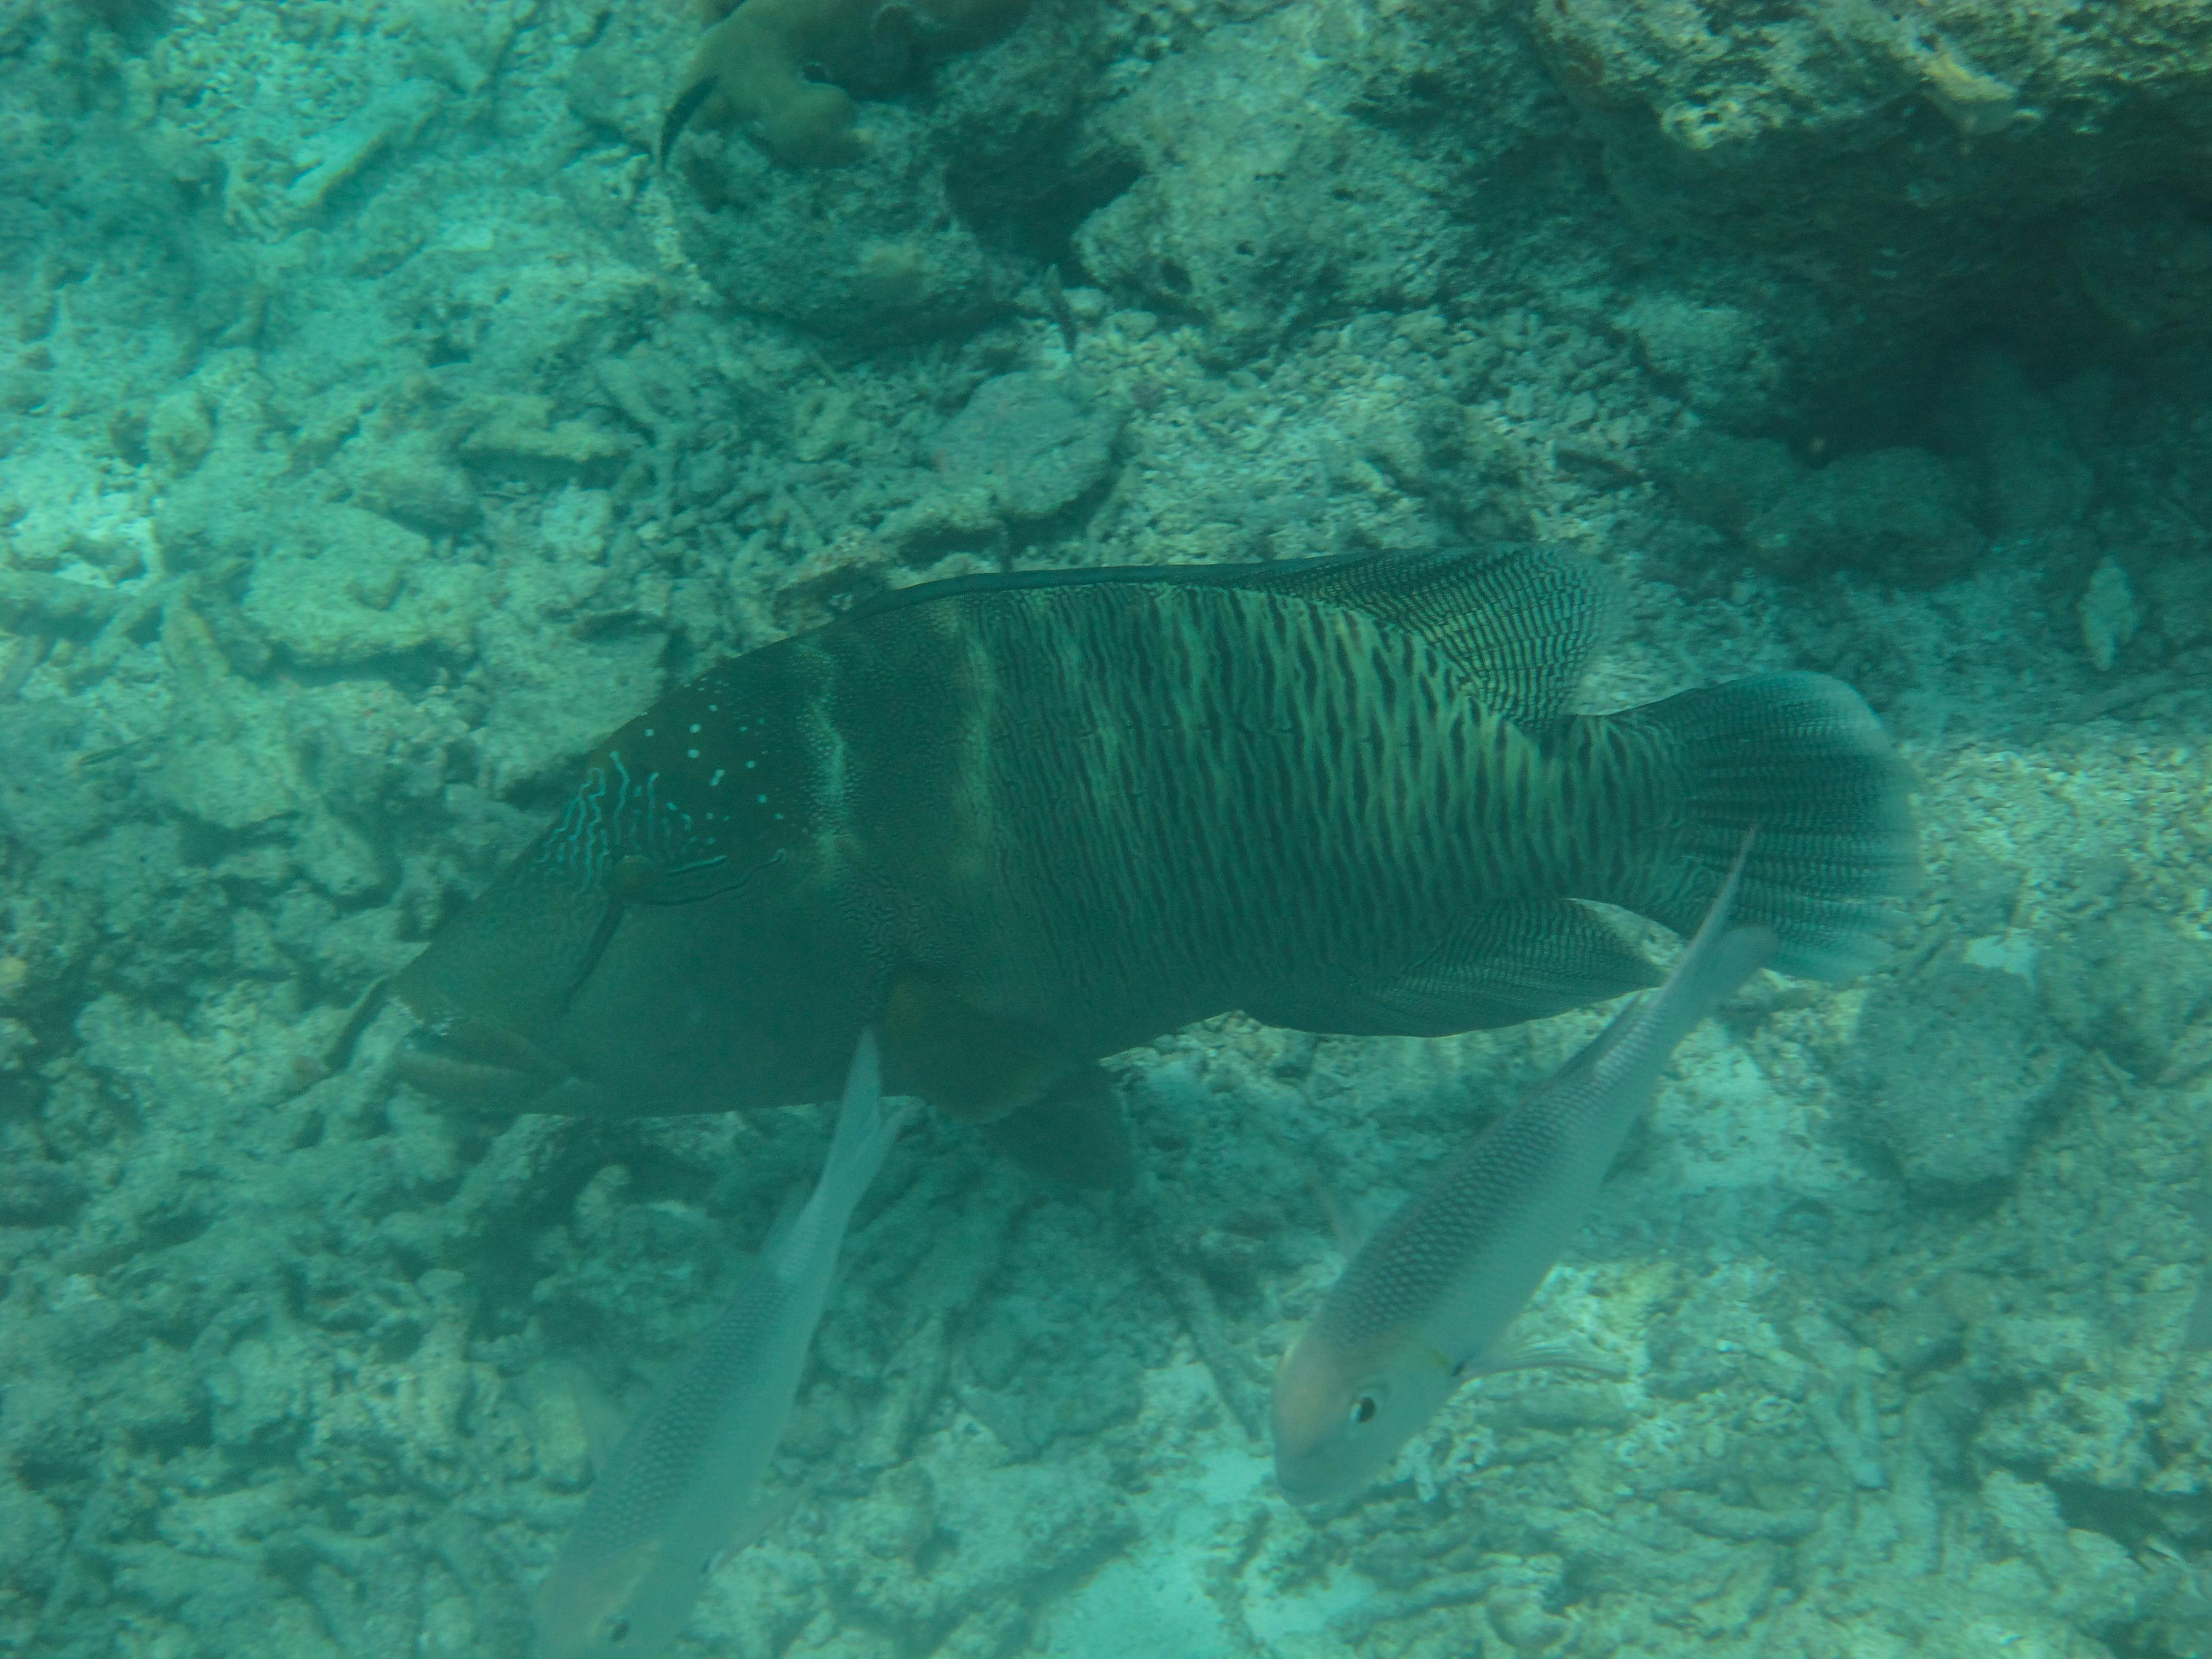Fish: (380, 521, 1942, 1206)
